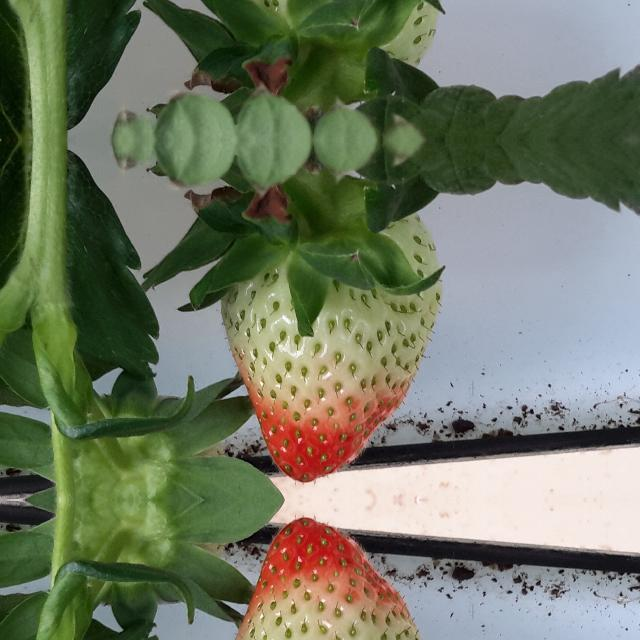Health_50: (217, 212, 447, 482), (217, 518, 447, 640), (217, 0, 447, 68)
